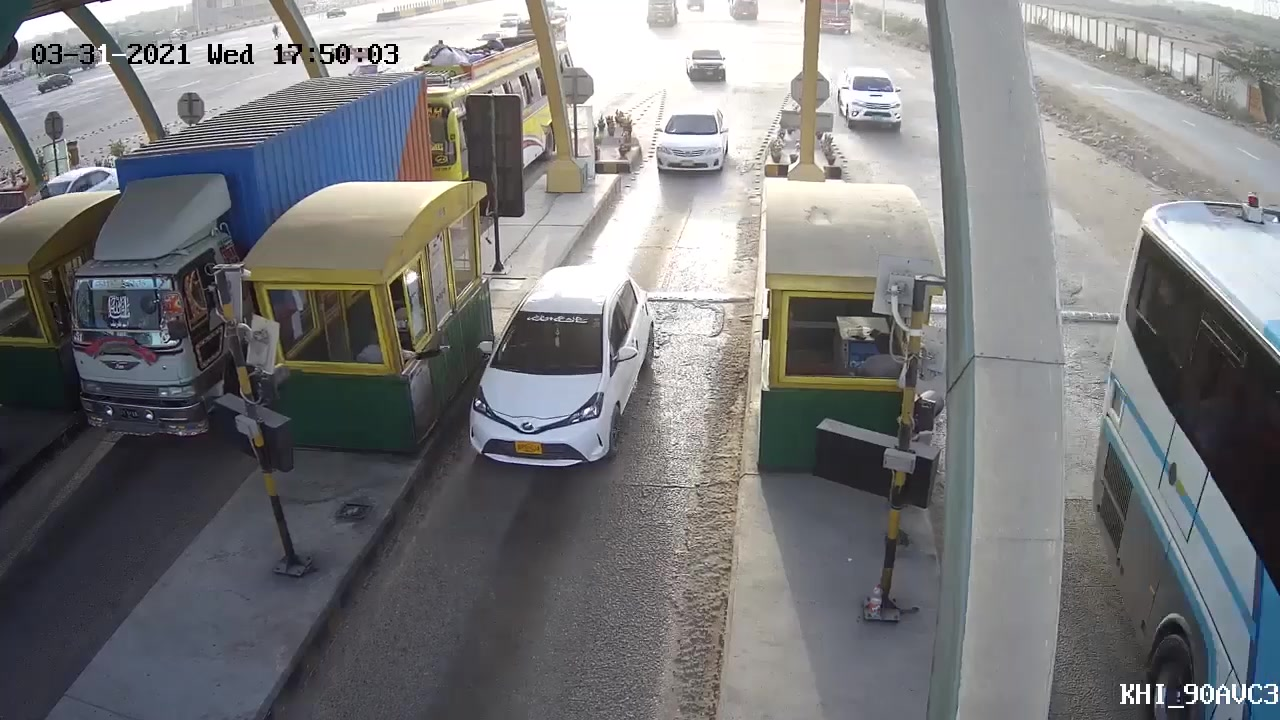F1: (460, 261, 659, 482), (647, 105, 735, 182)
